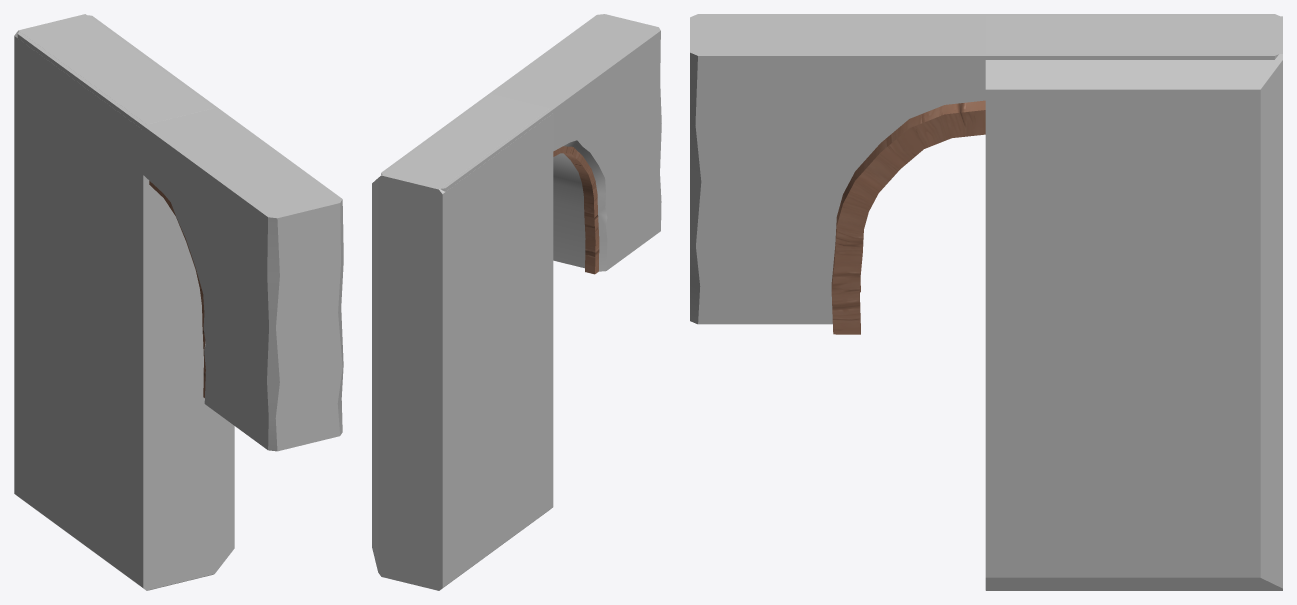
The model's file is SM_wall_11.fbx.
The picture shows the model from 3 angles, left to right: view 1: azimuth 30°, elevation 25°; view 2: azimuth 150°, elevation 25°; view 3: azimuth 270°, elevation 25°; orthographic projection. The views are drawn at different scales.
Parts seen in each view (by area): view 1: SM_wall_11_ConvexHulls, SM_wall_11; view 2: SM_wall_11_ConvexHulls, SM_wall_11; view 3: SM_wall_11_ConvexHulls, SM_wall_11.
Boxes of the visible parts, left/top/right/bottom form: SM_wall_11_ConvexHulls: left=14, top=14, right=234, bottom=590; SM_wall_11: left=17, top=15, right=343, bottom=451; SM_wall_11_ConvexHulls: left=372, top=94, right=553, bottom=590; SM_wall_11: left=381, top=14, right=661, bottom=274; SM_wall_11_ConvexHulls: left=985, top=16, right=1282, bottom=590; SM_wall_11: left=690, top=14, right=1279, bottom=334.
Size of the model in its own units: 246 by 1200 by 1200.
